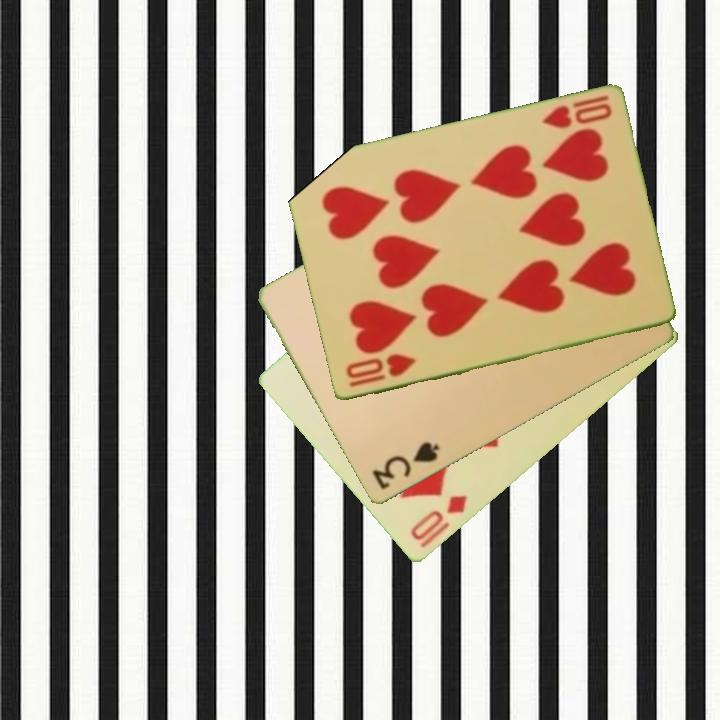10d: (407, 492, 470, 552)
10h: (342, 351, 419, 391), (538, 92, 615, 132)
3s: (368, 438, 442, 493)
